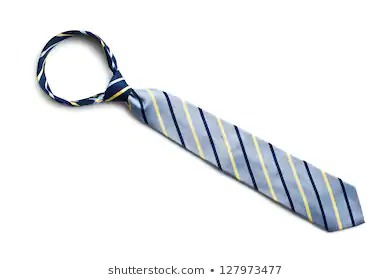F_tie: (26, 16, 372, 244)
